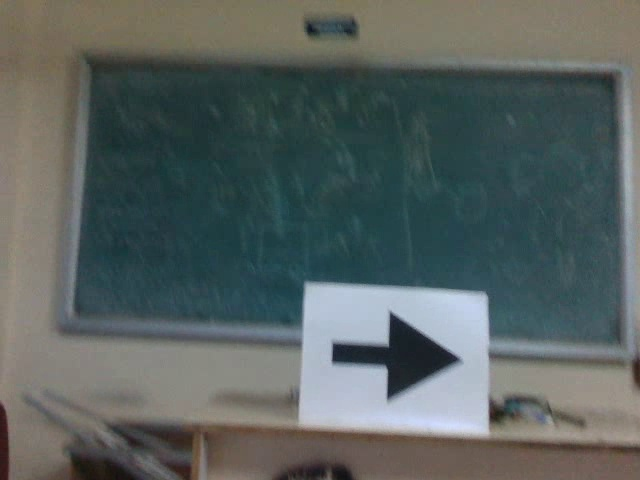Right: (322, 303, 465, 409)
